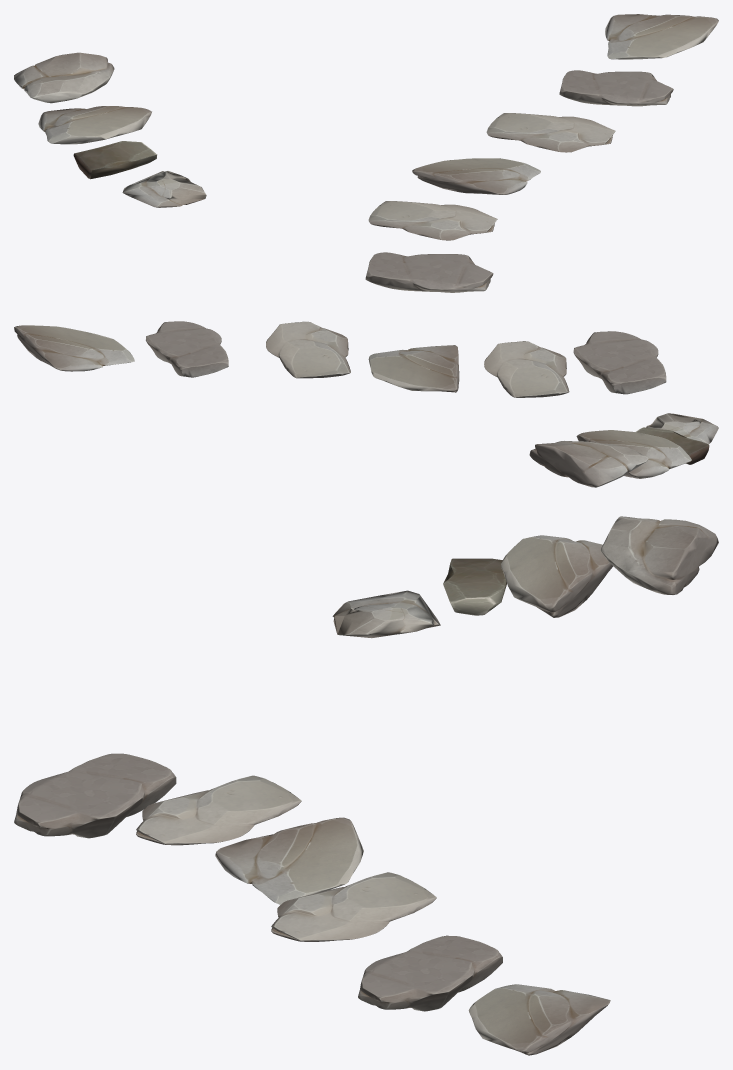
Rendered from rockpath.glb.
3 views of the same model, one above another, from view 1: azimuth 30°, elevation 25°; view 2: azimuth 150°, elevation 25°; view 3: azimuth 270°, elevation 25° (orthographic). The views are drawn at different scales.
Visible parts, largest first — view 1: SM_Rocks_03_RocksStylized_M_0.001, SM_Rocks_04_RocksStylized_M_0.006, SM_Rocks_04_RocksStylized_M_0.005, SM_Rocks_03_RocksStylized_M_0.003, SM_Rocks_03_RocksStylized_M_0.002, SM_Rocks_04_RocksStylized_M_0.003, SM_Rocks_03_RocksStylized_M_0.004, SM_Rocks_04_RocksStylized_M_0.004, SM_Rocks_09_RocksStylized_M_0.001, SM_Rocks_05_RocksStylized_M_0.002; view 2: SM_Rocks_03_RocksStylized_M_0.001, SM_Rocks_04_RocksStylized_M_0.006, SM_Rocks_03_RocksStylized_M_0.002, SM_Rocks_03_RocksStylized_M_0.003, SM_Rocks_04_RocksStylized_M_0.005, SM_Rocks_04_RocksStylized_M_0.003, SM_Rocks_03_RocksStylized_M_0.004, SM_Rocks_04_RocksStylized_M_0.004, SM_Rocks_05_RocksStylized_M_0.002, SM_Rocks_09_RocksStylized_M_0.001; view 3: SM_Rocks_03_RocksStylized_M_0.001, SM_Rocks_04_RocksStylized_M_0.003, SM_Rocks_03_RocksStylized_M_0.004, SM_Rocks_03_RocksStylized_M_0.002, SM_Rocks_03_RocksStylized_M_0.003, SM_Rocks_04_RocksStylized_M_0.006, SM_Rocks_04_RocksStylized_M_0.005, SM_Rocks_04_RocksStylized_M_0.004, SM_Rocks_05_RocksStylized_M_0.002, SM_Rocks_09_RocksStylized_M_0.001.
Part boxes in pixels (left/top/right/bottom): SM_Rocks_03_RocksStylized_M_0.001: left=365, top=252, right=493, bottom=292; SM_Rocks_04_RocksStylized_M_0.006: left=605, top=14, right=718, bottom=59; SM_Rocks_04_RocksStylized_M_0.005: left=14, top=52, right=114, bottom=103; SM_Rocks_03_RocksStylized_M_0.003: left=486, top=113, right=615, bottom=152; SM_Rocks_03_RocksStylized_M_0.002: left=368, top=201, right=497, bottom=240; SM_Rocks_04_RocksStylized_M_0.003: left=412, top=158, right=540, bottom=194; SM_Rocks_03_RocksStylized_M_0.004: left=559, top=70, right=673, bottom=106; SM_Rocks_04_RocksStylized_M_0.004: left=38, top=106, right=151, bottom=144; SM_Rocks_09_RocksStylized_M_0.001: left=73, top=141, right=157, bottom=179; SM_Rocks_05_RocksStylized_M_0.002: left=122, top=171, right=206, bottom=207; SM_Rocks_03_RocksStylized_M_0.001: left=573, top=331, right=666, bottom=394; SM_Rocks_04_RocksStylized_M_0.006: left=14, top=325, right=134, bottom=371; SM_Rocks_03_RocksStylized_M_0.002: left=484, top=341, right=569, bottom=397; SM_Rocks_03_RocksStylized_M_0.003: left=266, top=321, right=350, bottom=378; SM_Rocks_04_RocksStylized_M_0.005: left=529, top=441, right=648, bottom=487; SM_Rocks_04_RocksStylized_M_0.003: left=368, top=345, right=459, bottom=392; SM_Rocks_03_RocksStylized_M_0.004: left=145, top=321, right=228, bottom=377; SM_Rocks_04_RocksStylized_M_0.004: left=576, top=430, right=691, bottom=478; SM_Rocks_05_RocksStylized_M_0.002: left=646, top=413, right=718, bottom=444; SM_Rocks_09_RocksStylized_M_0.001: left=635, top=427, right=709, bottom=464; SM_Rocks_03_RocksStylized_M_0.001: left=14, top=753, right=176, bottom=838; SM_Rocks_04_RocksStylized_M_0.003: left=215, top=817, right=363, bottom=904; SM_Rocks_03_RocksStylized_M_0.004: left=358, top=935, right=502, bottom=1011; SM_Rocks_03_RocksStylized_M_0.002: left=136, top=775, right=301, bottom=845; SM_Rocks_03_RocksStylized_M_0.003: left=271, top=872, right=436, bottom=941; SM_Rocks_04_RocksStylized_M_0.006: left=468, top=984, right=610, bottom=1055; SM_Rocks_04_RocksStylized_M_0.005: left=600, top=516, right=718, bottom=594; SM_Rocks_04_RocksStylized_M_0.004: left=501, top=535, right=613, bottom=617; SM_Rocks_05_RocksStylized_M_0.002: left=332, top=590, right=440, bottom=638; SM_Rocks_09_RocksStylized_M_0.001: left=443, top=558, right=506, bottom=615.
Bounding box in the file's own units: 13 × 2.22 × 8.34.
10 materials, 10 textured.
